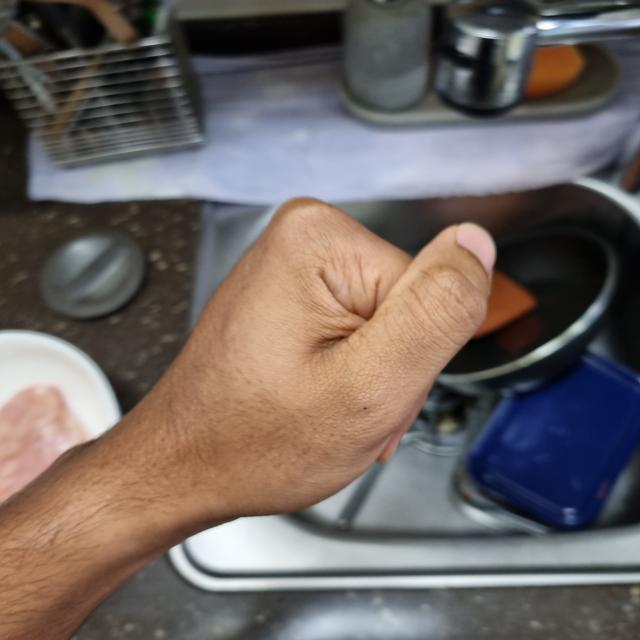Rock: (124, 203, 512, 516)
